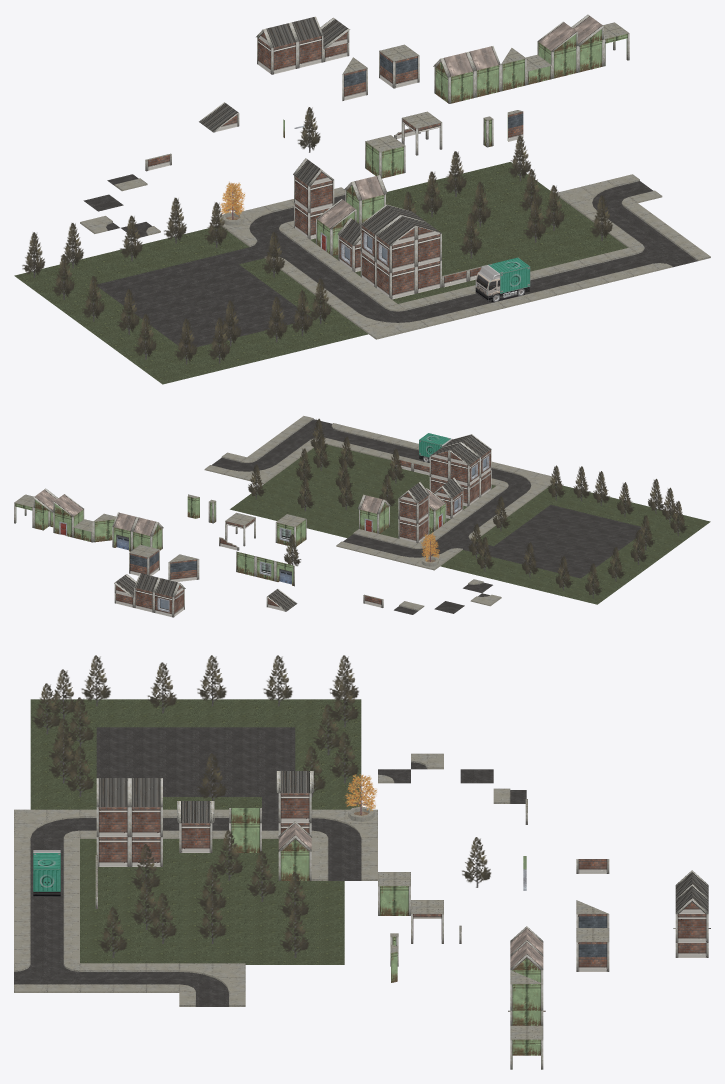
File: jensen_game_neighborhood.gltf
3 renders of one model, top to bottom at view 1: azimuth 30°, elevation 25°; view 2: azimuth 150°, elevation 25°; view 3: azimuth 270°, elevation 25°, orthographic. The views are drawn at different scales.
Visible parts, largest first — view 1: truck-green, road-asphalt-corner.001, road-asphalt-corner.002, wall-a-painted, wall-b-window, road-asphalt-corner, wall-a-window.003, wall-a.003, wall-b, wall-a-window, wall-a.004, wall-b-diagonal (+62 smaller); view 2: road-asphalt-corner.001, road-asphalt-corner.002, wall-b-window, wall-a-painted, wall-a-painted-diagonal, road-asphalt-corner, wall-a.004, wall-a-window, wall-a-window.002, wall-a.001, wall-b-door.001, truck-green (+64 smaller); view 3: road-asphalt-corner.002, road-asphalt-corner.001, road-asphalt-corner, wall-a-painted, wall-b-window, truck-green, tree-park-large, wall-a-window.001, road-asphalt-straight.019, road-asphalt-straight.020, road-asphalt-straight.021, wall-a.008 (+51 smaller).
Part boxes in pixels (<box>): truck-green: <box>475,257,530,302</box>; road-asphalt-corner.001: <box>346,304,427,339</box>; road-asphalt-corner.002: <box>556,180,636,215</box>; wall-a-painted: <box>379,44,419,88</box>; wall-b-window: <box>365,135,405,178</box>; road-asphalt-corner: <box>215,206,293,241</box>; wall-a-window.003: <box>375,235,416,272</box>; wall-a.003: <box>375,262,416,299</box>; wall-b: <box>434,66,474,103</box>; wall-a-window: <box>257,37,297,74</box>; wall-a.004: <box>294,175,334,212</box>; wall-b-diagonal: <box>500,48,526,91</box>; road-asphalt-corner.001: <box>497,468,557,495</box>; road-asphalt-corner.002: <box>224,457,286,484</box>; wall-b-window: <box>275,514,306,547</box>; wall-a-painted: <box>129,544,159,575</box>; wall-a-painted-diagonal: <box>168,554,199,581</box>; road-asphalt-corner: <box>395,543,457,570</box>; wall-a.004: <box>398,495,429,523</box>; wall-a-window: <box>154,589,184,617</box>; wall-a-window.002: <box>449,458,480,486</box>; wall-a.001: <box>398,516,429,543</box>; wall-b-door.001: <box>359,506,389,533</box>; truck-green: <box>419,433,453,462</box>; road-asphalt-corner.002: <box>179,963,245,992</box>; road-asphalt-corner.001: <box>14,809,79,838</box>; road-asphalt-corner: <box>311,809,377,838</box>; wall-a-painted: <box>576,928,609,971</box>; wall-b-window: <box>378,872,410,915</box>; truck-green: <box>33,850,60,896</box>; tree-park-large: <box>345,774,376,822</box>; wall-a-window.001: <box>179,823,212,852</box>; road-asphalt-straight.019: <box>80,963,113,992</box>; road-asphalt-straight.020: <box>113,963,146,992</box>; road-asphalt-straight.021: <box>146,963,179,992</box>; wall-a.008: <box>129,807,162,836</box>.
Bounding box in the file's own units: 107 × 10 × 84.27.
92 materials, 91 textured.
